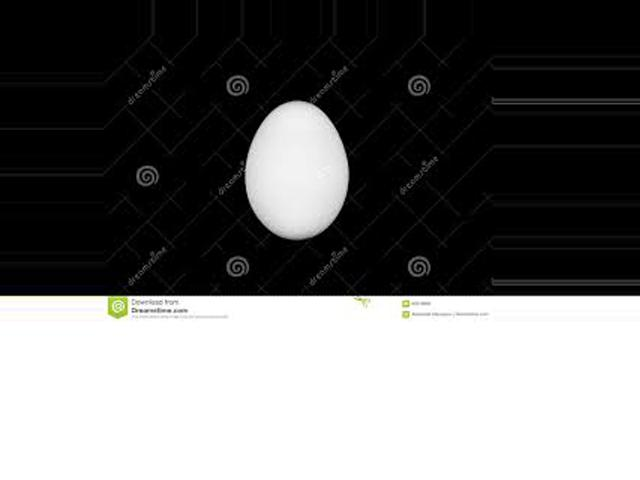egg: (246, 101, 351, 239)
